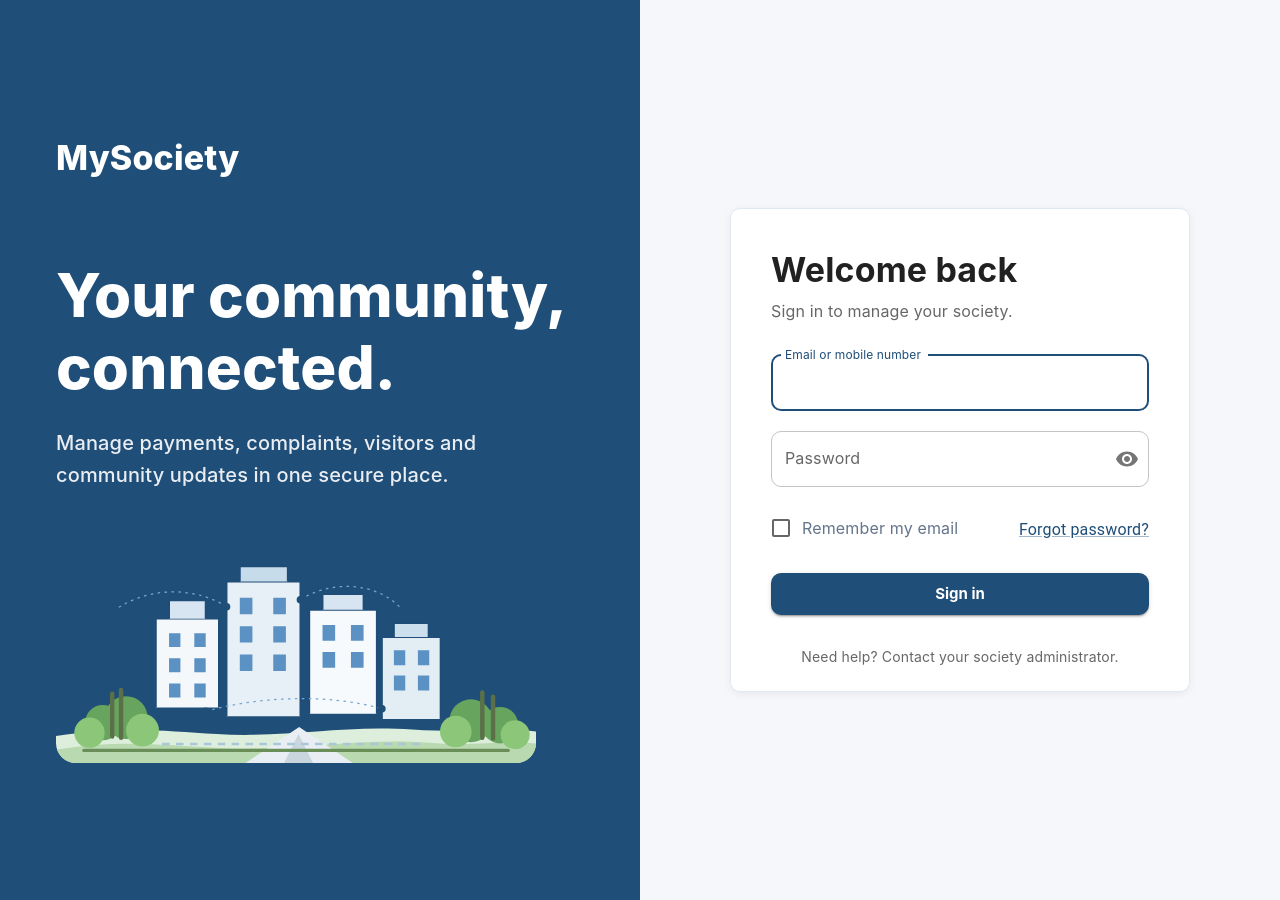
LoginPage › shows a friendly invalid-credential error
Step 1. Type "admin@mysociety.test" into the field labelled "Email or mobile number" → [960, 383], box [771,355,1149,411]
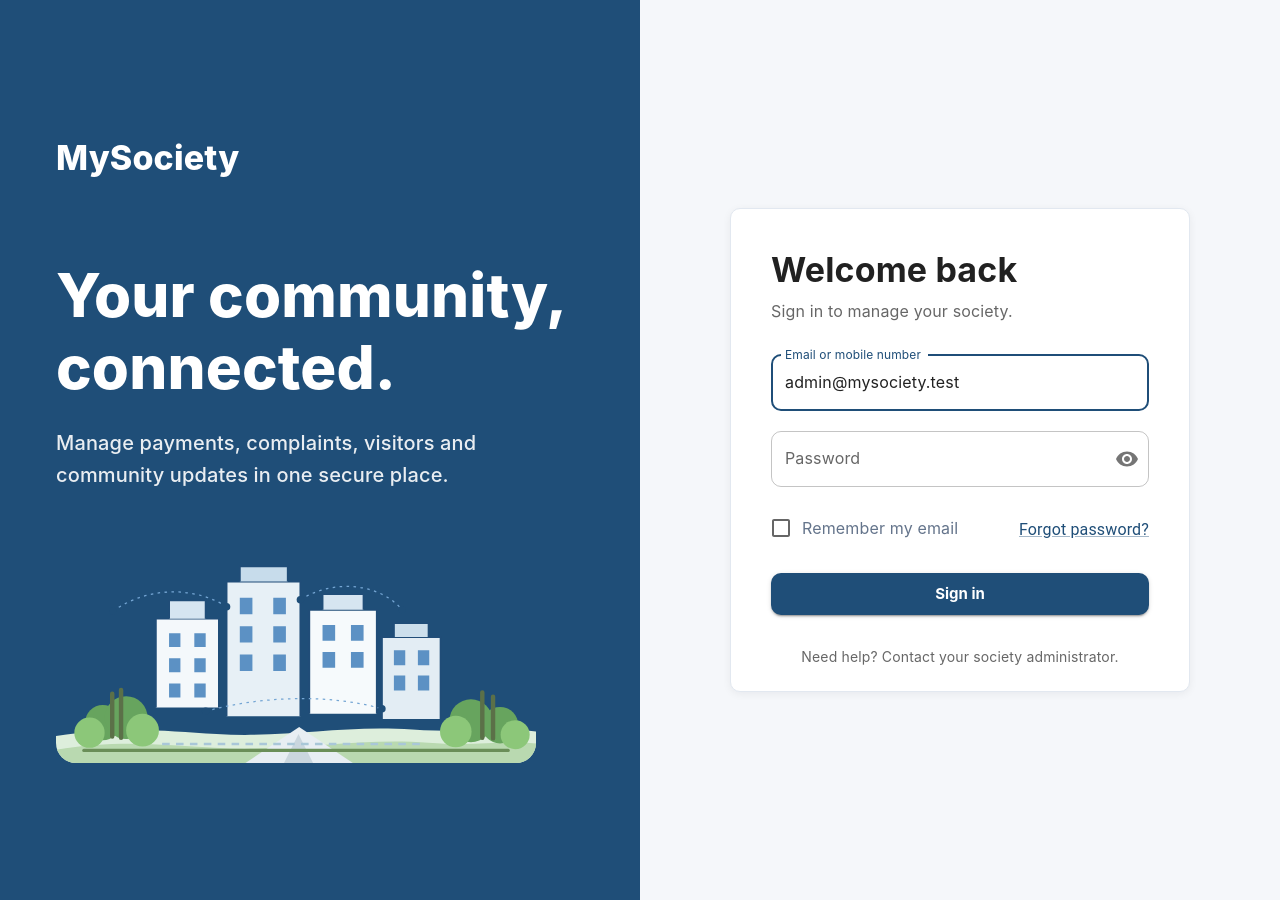
Step 2. Type "wrong-password" into the password field labelled "Password" → [935, 459], box [771,431,1099,487]
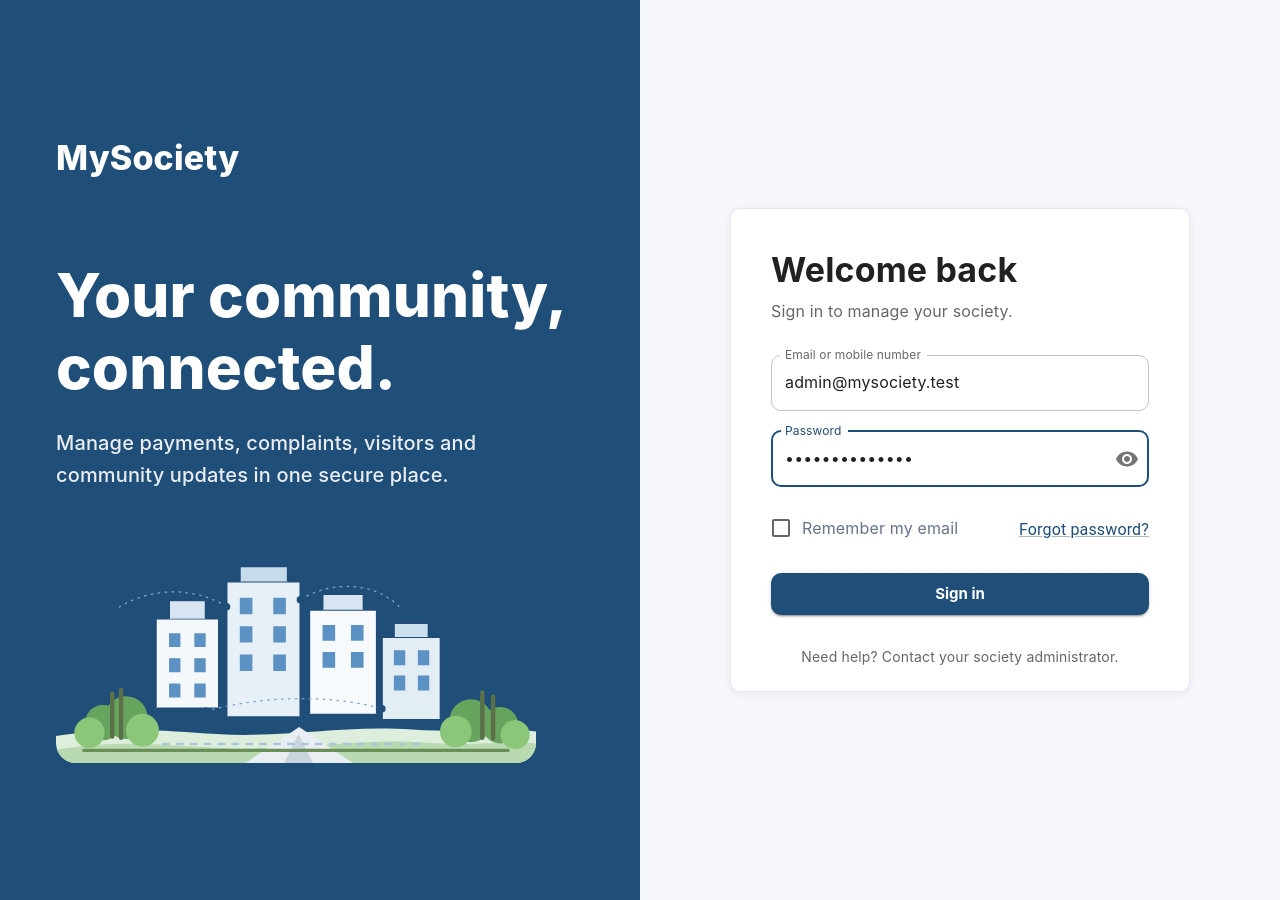
Step 3. Click the button "Sign in" → [960, 594], box [771,573,1149,615]
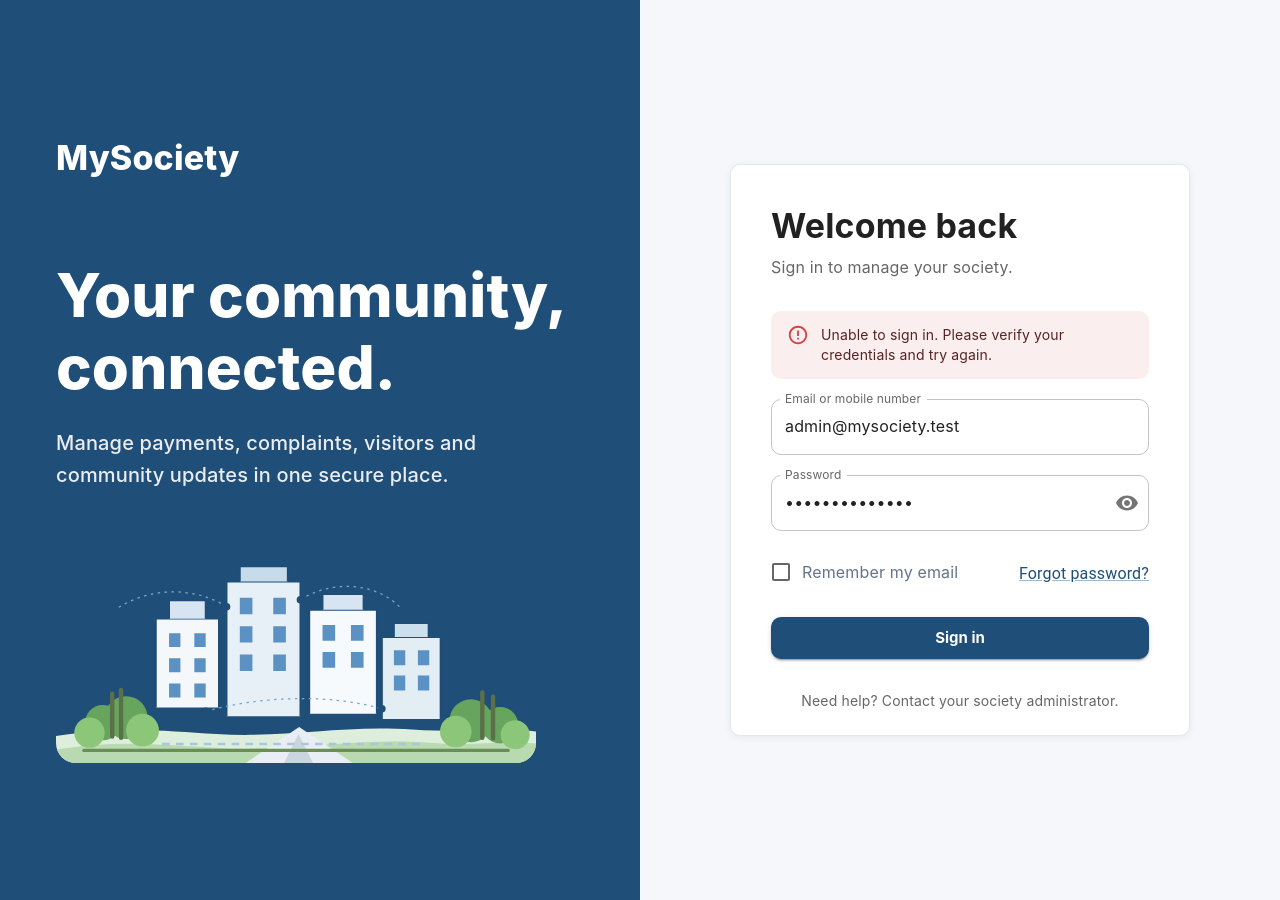
Result: the message shows "Unable to sign in" at [821,326,1064,363]
